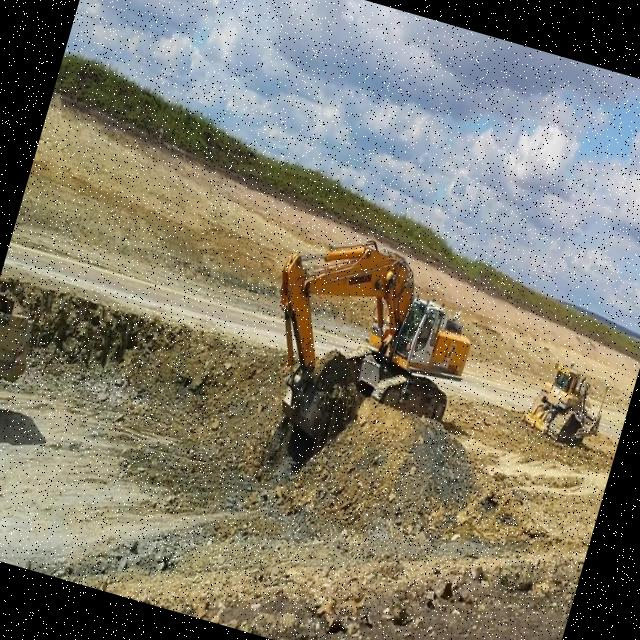Excavator: (236, 216, 494, 484)
Loader: (516, 350, 614, 453)
